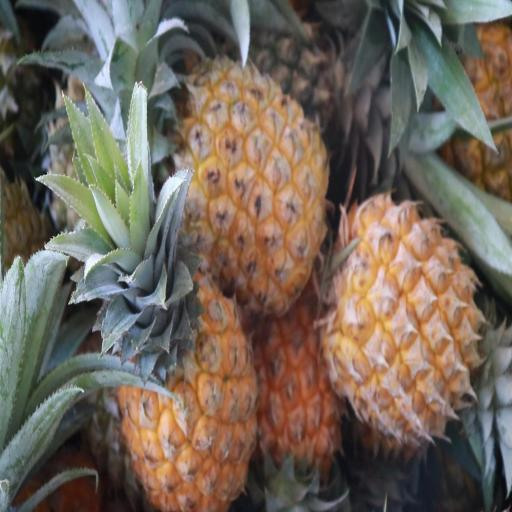Pineapple - v8 v1: (120, 185, 262, 512), (328, 190, 486, 445), (172, 56, 328, 313), (252, 311, 348, 511)
